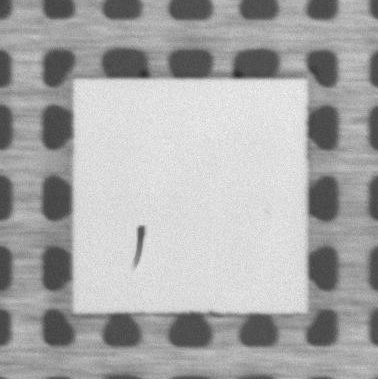DIE_INK: (130, 222, 146, 268)
